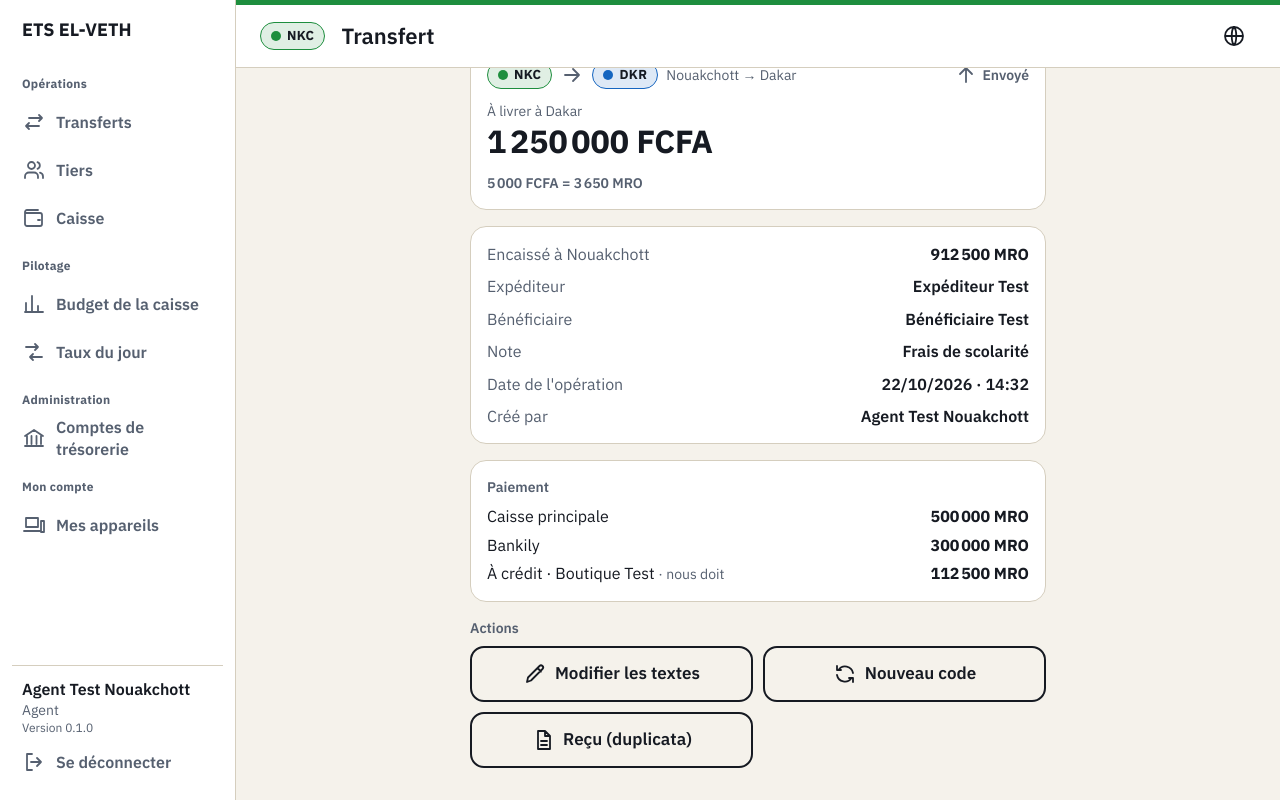
Scenario: Fiche d’un transfert — Agent de l’agence d’envoi › propose de recharger quand le transfert a été modifié entre-temps
(page scrolled)
Click the button "Modifier les textes" at (612,674), box [470,646,753,702]
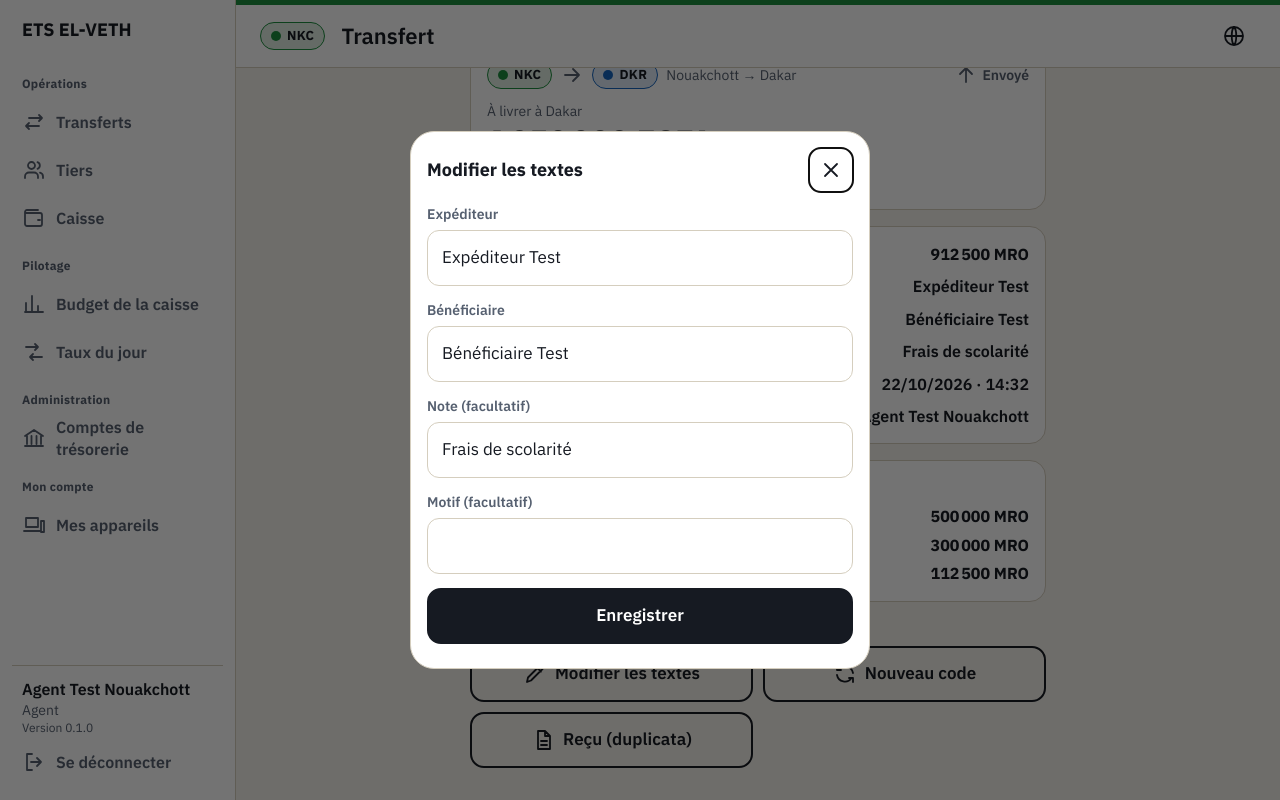
Click the button "Enregistrer" at (640,616), box [427,588,853,644]
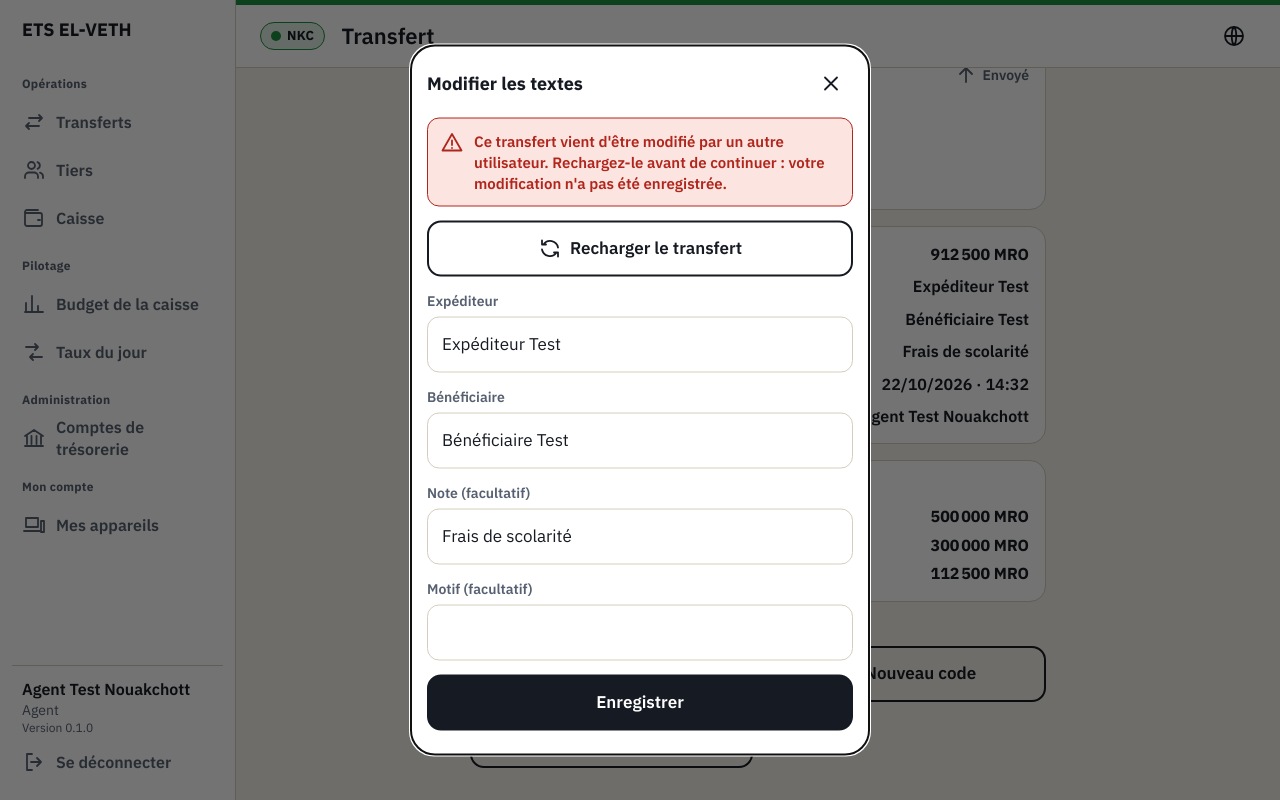
Now the text "vient d'être modifié par un autre utilisateur" is shown, box [474,132,824,192]
Now the button "Recharger le transfert" is shown, box [427,220,853,276]
